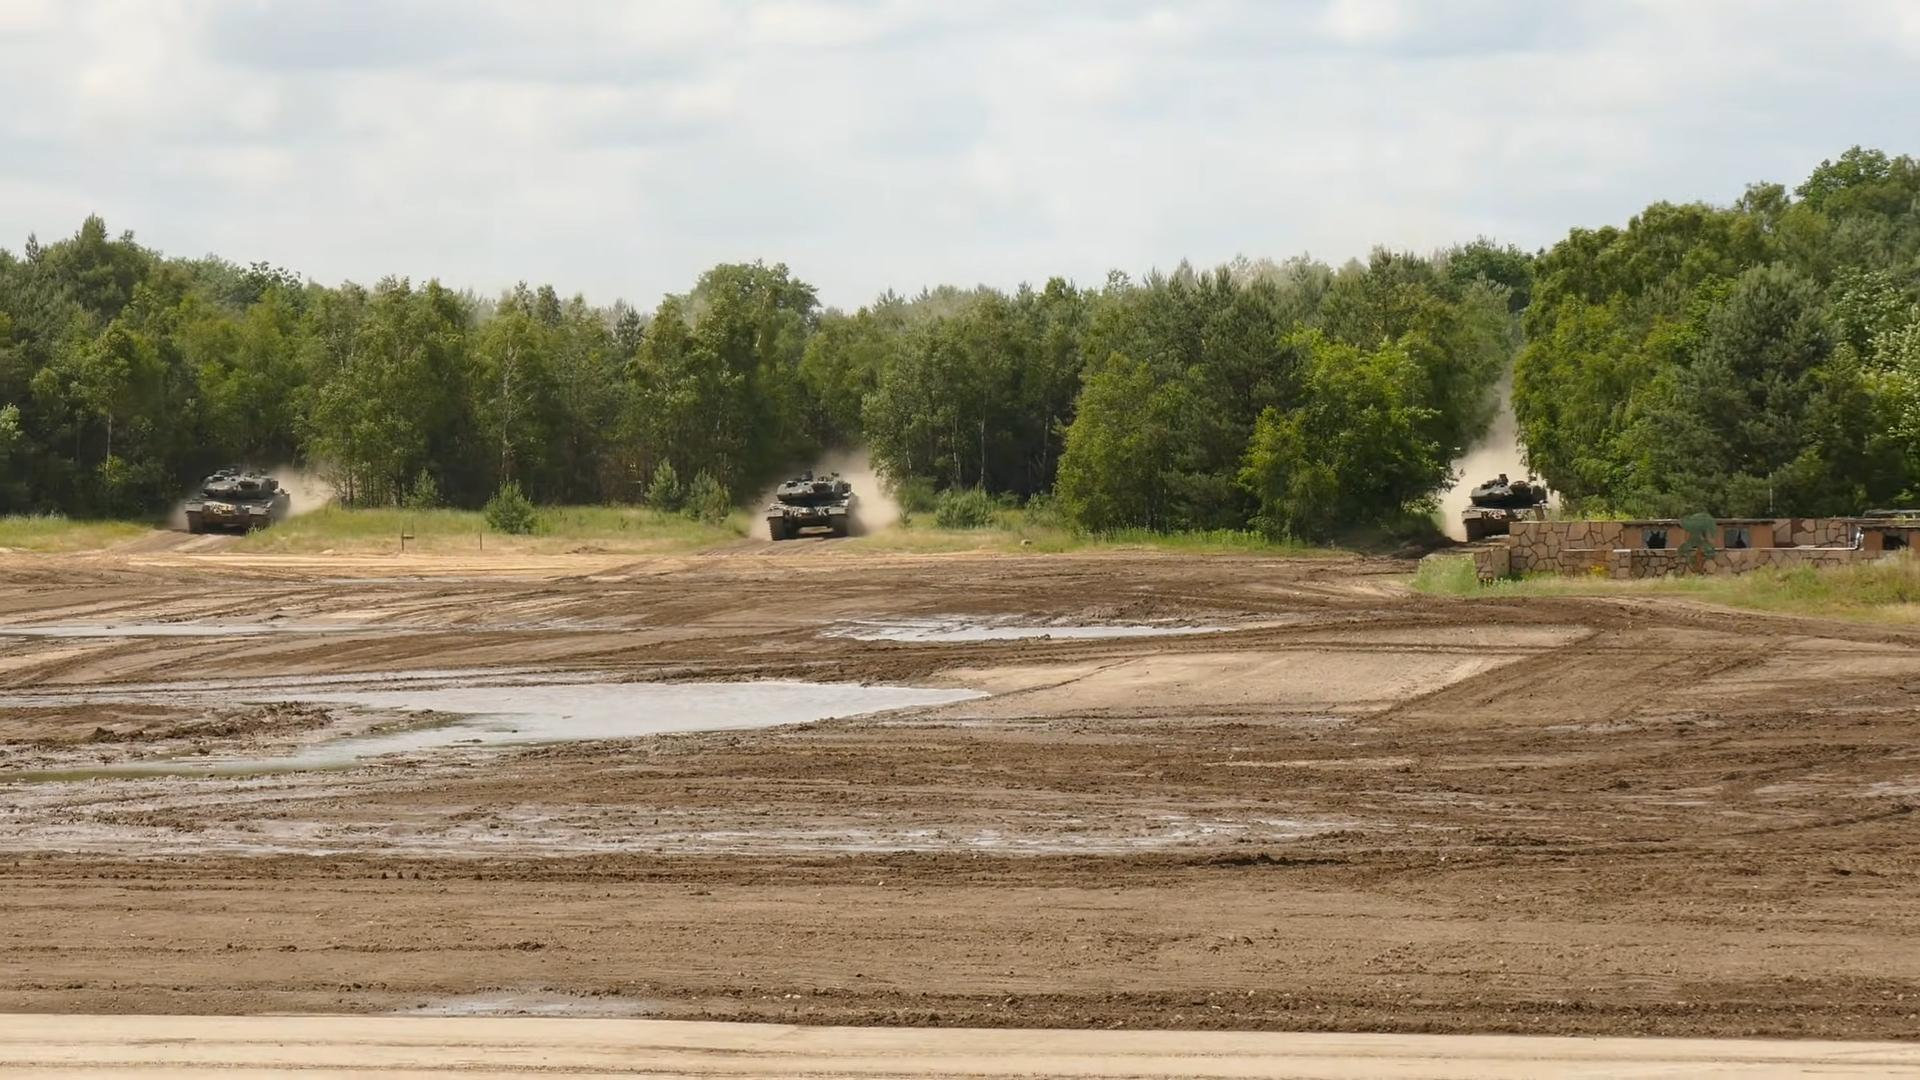tank: (185, 465, 293, 534), (766, 471, 860, 541), (1462, 473, 1552, 542)
